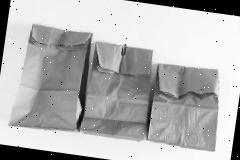paper: (8, 22, 94, 135), (79, 40, 156, 142), (145, 60, 225, 151)
